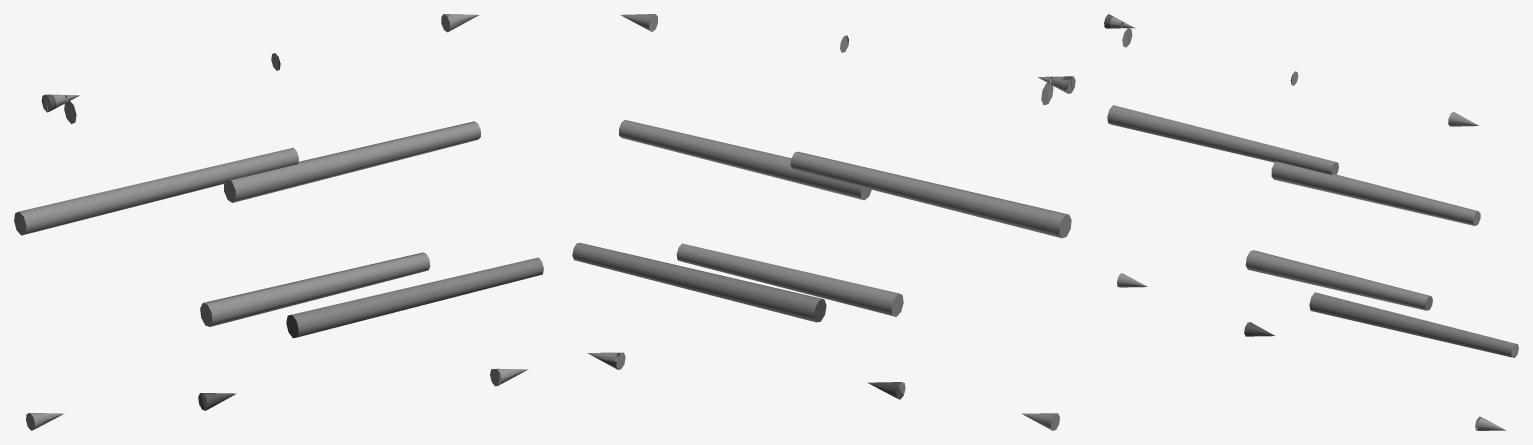
3 renders of one model, left to right at view 1: azimuth 30°, elevation 25°; view 2: azimuth 150°, elevation 25°; view 3: azimuth 330°, elevation 25°, orthographic. The views are drawn at different scales.
Size of the model in its own units: 0.2886 by 0.2199 by 0.0279.
